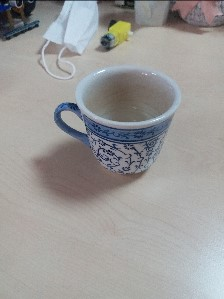cup: (56, 64, 181, 178)
